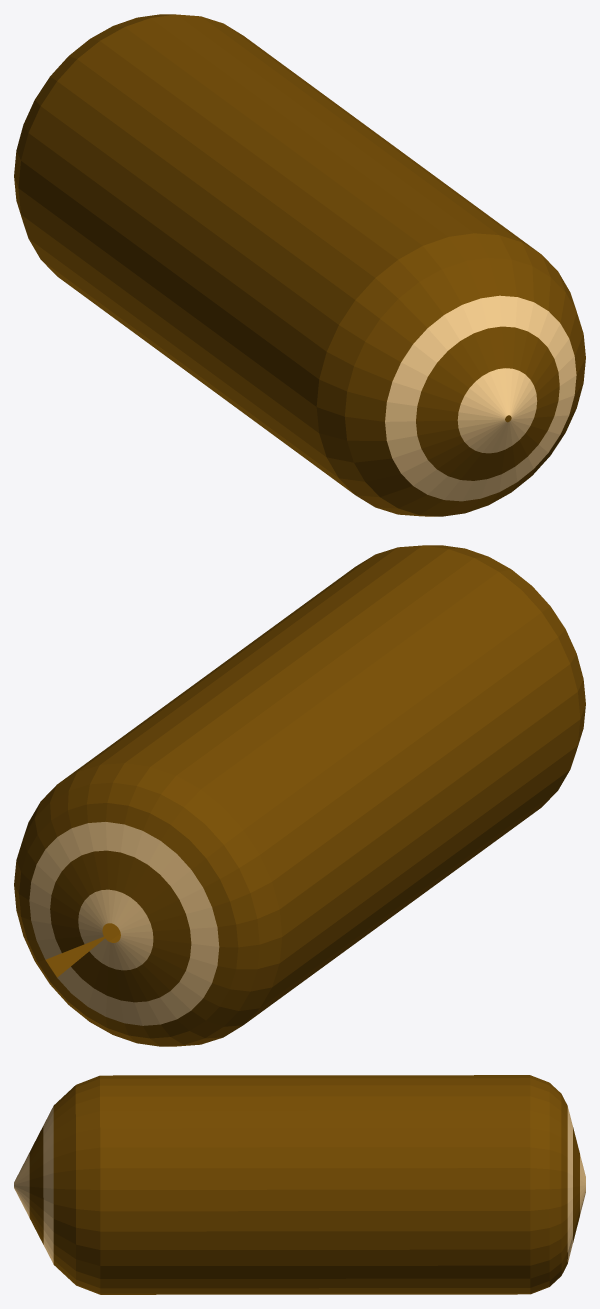
File: Log.fbx
3 views of the same model, one above another, from view 1: azimuth 30°, elevation 25°; view 2: azimuth 150°, elevation 25°; view 3: azimuth 270°, elevation 25° (orthographic). The views are drawn at different scales.
Visible parts, largest first — view 1: Cylinder, Cylinder.002, Cylinder.005; view 2: Cylinder, Cylinder.001, Cylinder.003, Cylinder.004; view 3: Cylinder, Cylinder.002, Cylinder.005, Cylinder.001, Cylinder.003.
Boxes of the visible parts, x1,y1,x2,y2 form: Cylinder: (14, 14, 585, 516); Cylinder.002: (385, 295, 576, 501); Cylinder.005: (416, 326, 559, 480); Cylinder: (14, 545, 585, 1046); Cylinder.001: (29, 822, 219, 1025); Cylinder.003: (50, 850, 191, 1002); Cylinder.004: (78, 889, 153, 970); Cylinder: (53, 1075, 567, 1294); Cylinder.002: (14, 1106, 53, 1263); Cylinder.005: (29, 1126, 43, 1244); Cylinder.001: (567, 1106, 572, 1261); Cylinder.003: (573, 1127, 579, 1242).
Size of the model in its own units: 200 by 200 by 521.
